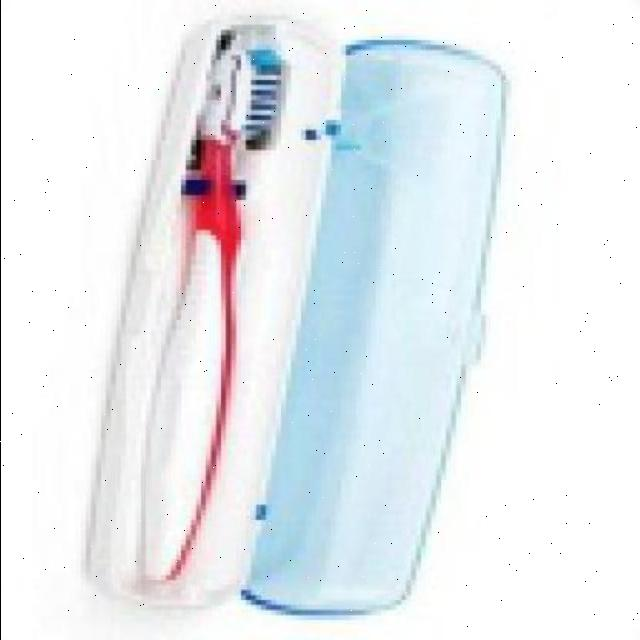toothbrush: (80, 26, 350, 590)
